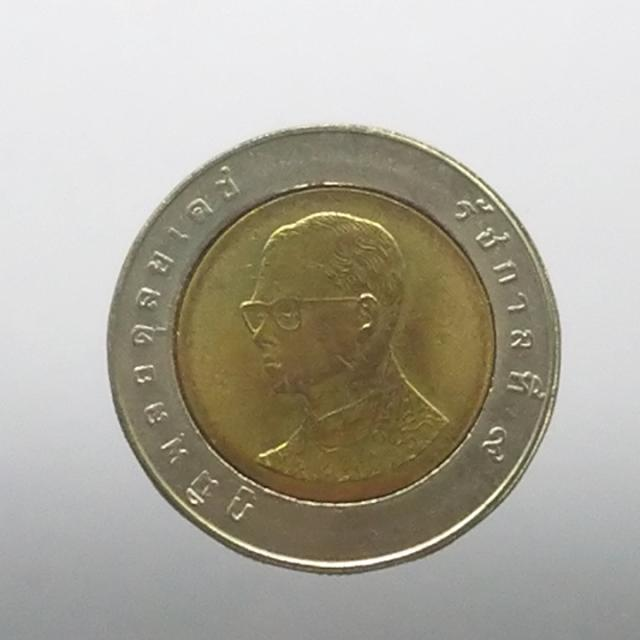10 Bath: (103, 122, 566, 577)
